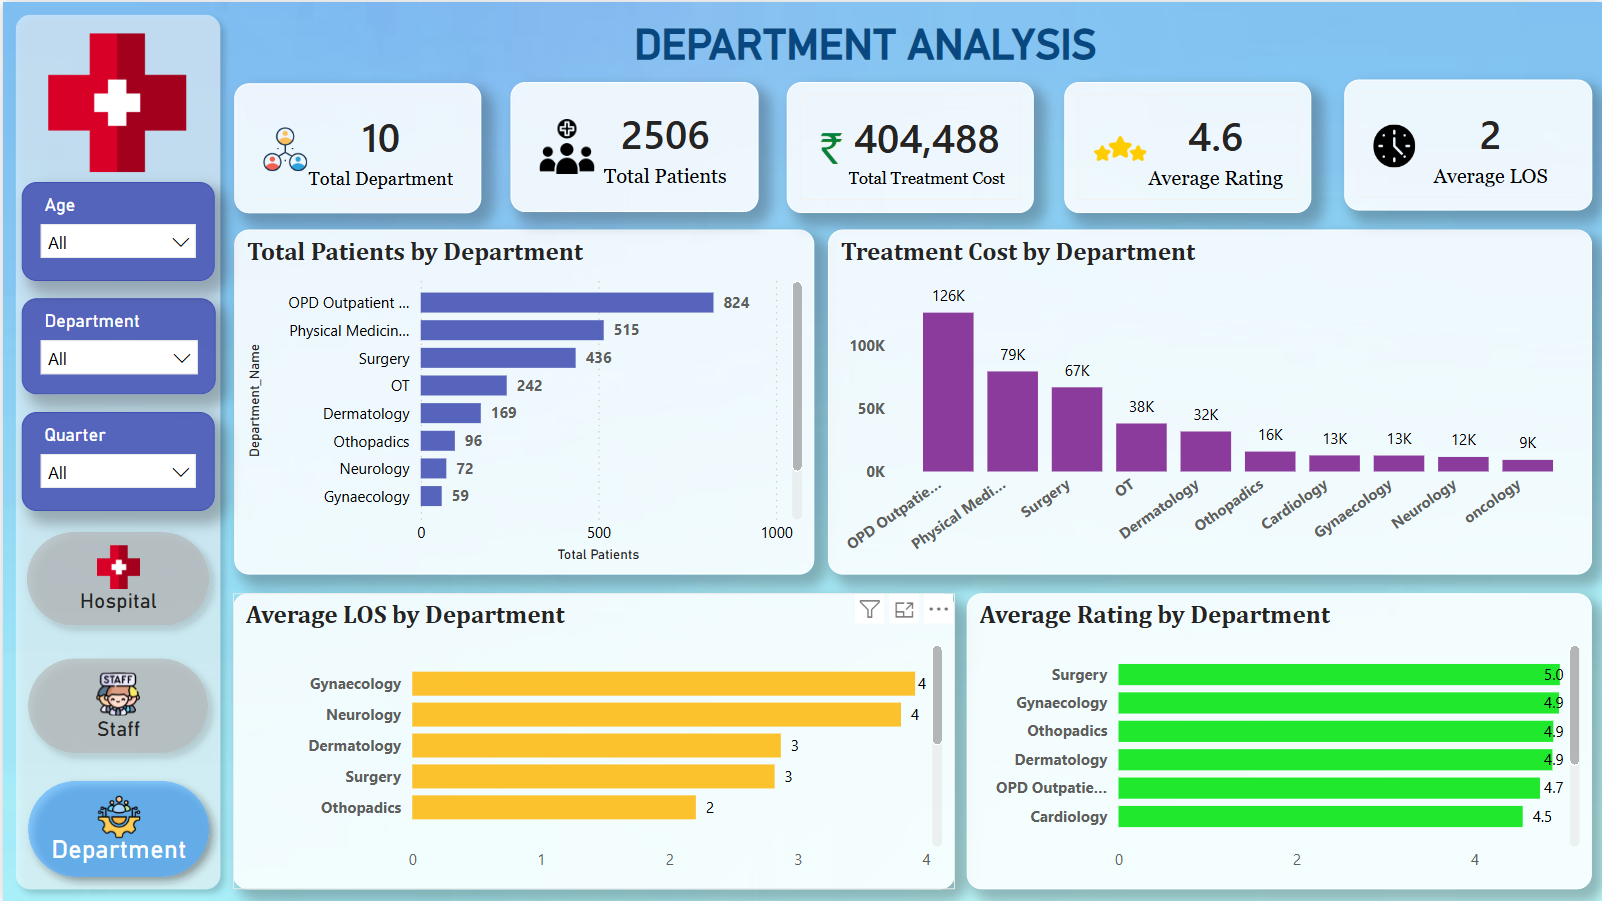

The dashboard page shown, as its layout file describes it:
{"tool":"powerbi","page":{"name":"Departments Analysis","canvas":[1280,720],"ordinal":2},"visuals":[{"type":"shape","box":[0,0,183.7,719.8],"z":0},{"type":"cardVisual","fields":{"Data":["Measure.Total Department"]},"box":[185,64.8,197.5,103.9],"z":1000},{"type":"slicer","fields":{"Values":["Department.Department_Name"]},"box":[15.1,237.2,154.7,76.7],"z":2000},{"type":"cardVisual","fields":{"Data":["Measure.Average Rating"]},"box":[849,63.7,197.5,105],"z":3000},{"type":"barChart","title":"Total Patients by Department","fields":{"Category":["Department.Department_Name"],"Y":["Measure.Total Patients"]},"box":[185,181.9,463.5,276.4],"z":4000},{"type":"cardVisual","fields":{"Data":["Measure.Total Treatment Cost"]},"box":[626.6,63.7,197.5,105],"z":5000},{"type":"columnChart","title":"Treatment Cost by Department","fields":{"Category":["Department.Department_Name"],"Y":["Measure.Total Treatment Cost"]},"box":[659.9,181.9,611.1,276.4],"z":6000},{"type":"cardVisual","fields":{"Data":["Measure.Average LOS"]},"box":[1073.4,62.4,197.5,105],"z":7000},{"type":"barChart","title":"Average LOS by Department","fields":{"Y":["Measure.Average LOS"],"Category":["Department.Department_Name"]},"box":[184,472.9,576.8,237],"z":8000},{"type":"barChart","title":"Average Rating by Department","fields":{"Category":["Department.Department_Name"],"Y":["Measure.Average Rating"]},"box":[771.1,472.9,499.9,237],"z":9000},{"type":"textbox","box":[490.5,0,397,57.2],"z":10000},{"type":"slicer","fields":{"Values":["Detail data dataset.Age"]},"box":[15.1,144.2,153.5,79.1],"z":11000},{"type":"image","box":[33.4,25,115.5,111.3],"z":12000},{"type":"group","id":"g1","title":"Group 1","box":[8.1,413,168.1,297.8],"z":13000},{"type":"actionButton","box":[8.1,413,168.1,97.3],"z":13000,"group":"g1"},{"type":"cardVisual","fields":{"Data":["Measure.Total Patient"]},"box":[406.3,64.4,197.5,103.9],"z":14000},{"type":"actionButton","box":[9,612.1,166.9,98.5],"z":14000,"group":"g1"},{"type":"slicer","fields":{"Values":["Dim_date.Quarter","Dim_date.Month"]},"box":[15.1,327.9,153.5,79.1],"z":14001},{"type":"actionButton","box":[9,513.7,165.7,98.5],"z":15000,"group":"g1"}]}

Visuals, with their boxes in screenshot pixels (x1, y1, x2, y2), scaled from the page's 1280x720 canvas onto the 1602x901 screenshot:
shape: [0,0,230,900]
cardVisual - Measure.Total Department: [232,81,479,211]
slicer - Department.Department_Name: [19,297,213,393]
cardVisual - Measure.Average Rating: [1063,80,1310,211]
"Total Patients by Department" barChart: [232,228,812,574]
cardVisual - Measure.Total Treatment Cost: [784,80,1031,211]
"Treatment Cost by Department" columnChart: [826,228,1591,574]
cardVisual - Measure.Average LOS: [1343,78,1591,209]
"Average LOS by Department" barChart: [230,592,952,888]
"Average Rating by Department" barChart: [965,592,1591,888]
textbox: [614,0,1111,72]
slicer - Detail data dataset.Age: [19,180,211,279]
image: [42,31,186,171]
"Group 1" group: [10,517,221,889]
actionButton: [10,517,221,639]
cardVisual - Measure.Total Patient: [509,81,756,211]
actionButton: [11,766,220,889]
slicer - Dim_date.Quarter x Dim_date.Month: [19,410,211,509]
actionButton: [11,643,219,766]
